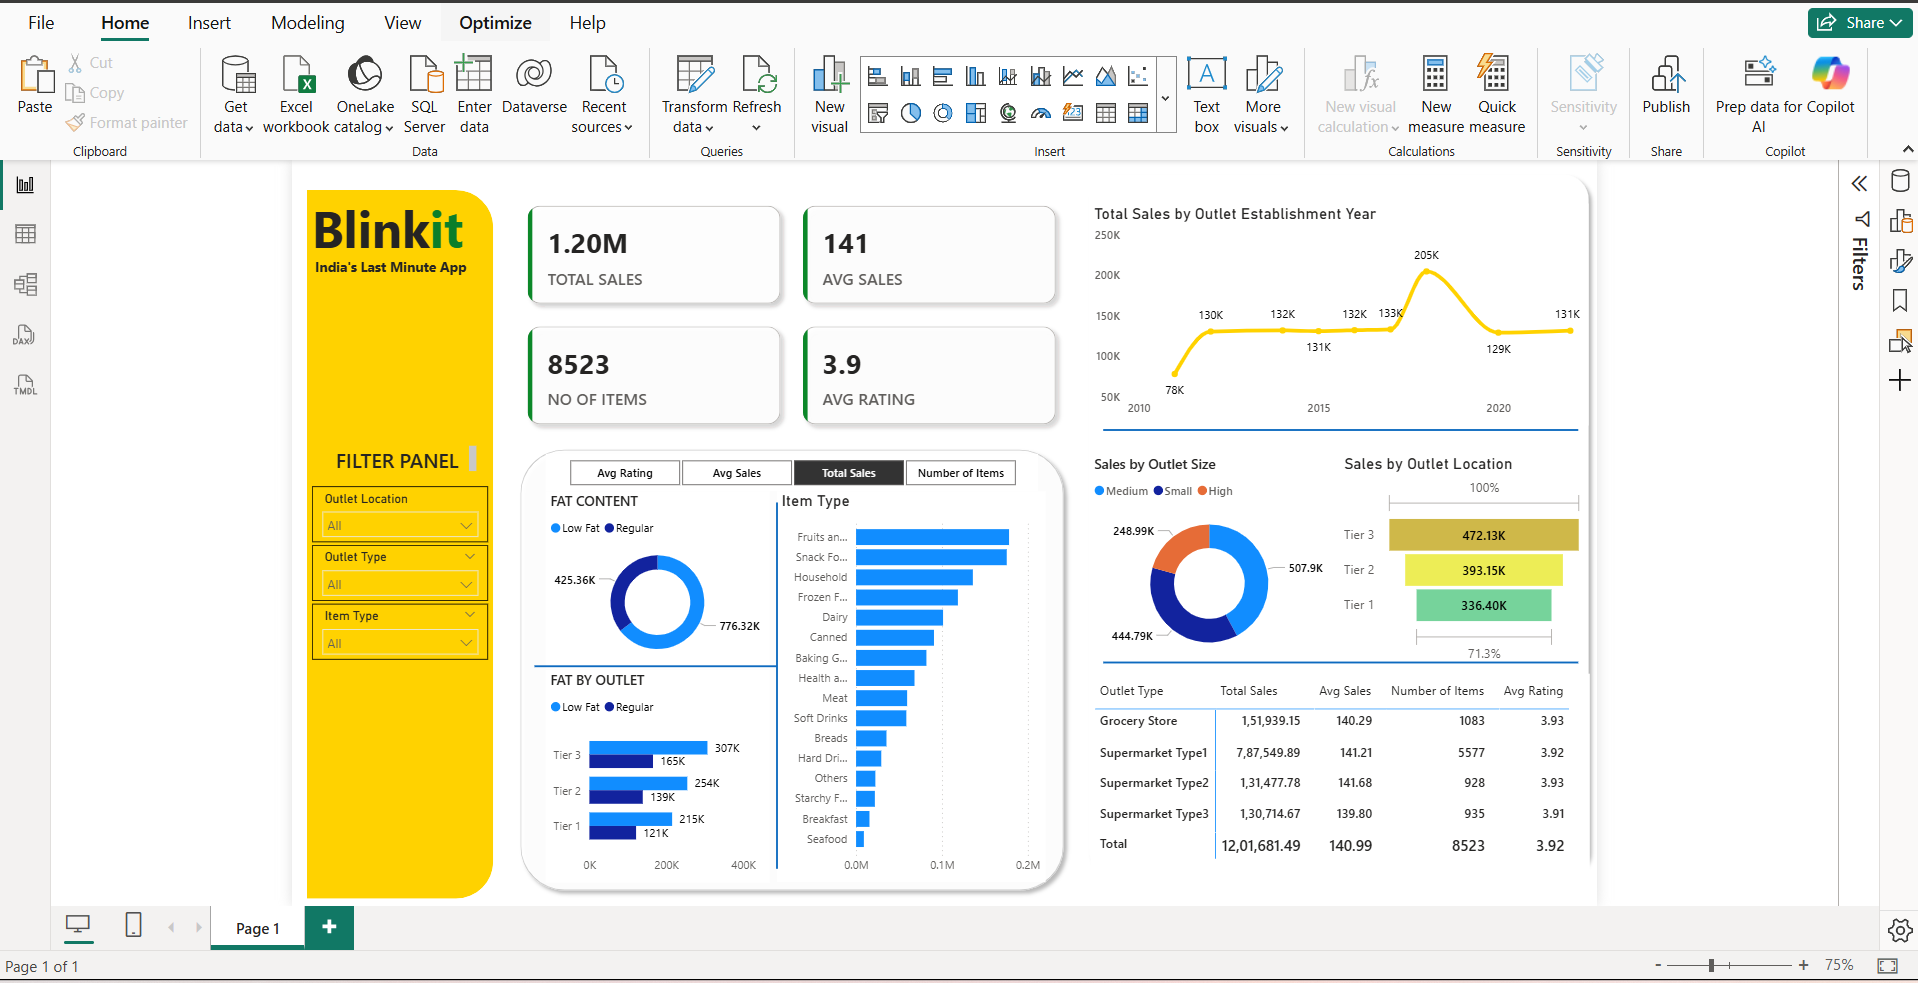

What the dashboard file says about the page in this screenshot:
{"tool":"powerbi","page":{"name":"Page 1","canvas":[1400,800],"ordinal":0},"visuals":[{"type":"shape","box":[16.1,32.2,199.7,760],"z":0},{"type":"textbox","box":[16.1,32.2,199.7,81.8],"z":1000},{"type":"textbox","box":[16.1,99.2,179.6,30.8],"z":2000},{"type":"cardVisual","fields":{"Data":["BlinkIT Grocery Data.Total Sales","BlinkIT Grocery Data.Avg Sales","BlinkIT Grocery Data.Number of Items","BlinkIT Grocery Data.Avg Rating"]},"box":[235.9,32.2,600,269.4],"z":3000},{"type":"shape","box":[235.9,301.6,600.5,490.6],"z":4000},{"type":"donutChart","title":"FAT CONTENT","fields":{"Y":["BlinkIT Grocery Data.Total Sales"],"Category":["BlinkIT Grocery Data.Item Fat Content"]},"box":[272.1,355.2,239.9,190.3],"z":5000},{"type":"slicer","fields":{"Values":["Metrics.Metrics"]},"box":[272.1,315,528.2,40.2],"z":6000},{"type":"clusteredBarChart","title":"FAT BY OUTLET","fields":{"Y":["BlinkIT Grocery Data.Total Sales"],"Category":["BlinkIT Grocery Data.Outlet Location Type"],"Series":["BlinkIT Grocery Data.Item Fat Content"]},"box":[272.1,546.9,239.9,227.9],"z":7000},{"type":"barChart","title":"Item Type","fields":{"Y":["BlinkIT Grocery Data.Total Sales"],"Category":["BlinkIT Grocery Data.Item Type"]},"box":[520.1,355.2,288.2,419.6],"z":8000},{"type":"shape","box":[845.8,6.7,553.6,768.1],"z":9000},{"type":"lineChart","fields":{"Category":["BlinkIT Grocery Data.Outlet Establishment Year"],"Y":["BlinkIT Grocery Data.Total Sales"]},"box":[855.2,46.9,534.9,237.3],"z":10000},{"type":"donutChart","title":"Sales by Outlet Size","fields":{"Category":["BlinkIT Grocery Data.Outlet Size"],"Y":["BlinkIT Grocery Data.Total Sales"]},"box":[855.2,315,257.4,230.6],"z":11000},{"type":"funnel","title":"Sales by Outlet Location","fields":{"Category":["BlinkIT Grocery Data.Outlet Location Type"],"Y":["BlinkIT Grocery Data.Total Sales"]},"box":[1123.3,315,266.8,230.6],"z":12000},{"type":"pivotTable","fields":{"Rows":["BlinkIT Grocery Data.Outlet Type"],"Values":["BlinkIT Grocery Data.Total Sales","BlinkIT Grocery Data.Avg Sales","BlinkIT Grocery Data.Number of Items","BlinkIT Grocery Data.Avg Rating"]},"box":[856.6,550.9,534.9,223.9],"z":13000},{"type":"shape","box":[260.1,534.9,260,16.1],"z":14000},{"type":"shape","box":[504,367.3,32.2,392.8],"z":15000},{"type":"shape","box":[870,526.8,509.4,24.1],"z":16000},{"type":"shape","box":[870,277.5,509.4,24.1],"z":17000},{"type":"slicer","fields":{"Values":["BlinkIT Grocery Data.Outlet Location Type"]},"box":[21.4,349.9,189,60],"z":17001},{"type":"slicer","fields":{"Values":["BlinkIT Grocery Data.Outlet Type"]},"box":[21.4,412.9,189,60],"z":17002},{"type":"slicer","fields":{"Values":["BlinkIT Grocery Data.Item Type"]},"box":[21.4,475.9,189,60.3],"z":17003},{"type":"textbox","box":[31.6,301.4,170.4,37.9],"z":17004}]}

Visuals, with their boxes on the page's 1400x800 design canvas (x1, y1, x2, y2). These are canvas units, not pixel positions in the 1918x983 screenshot, which may show the page scaled, cropped or inside an application window:
shape: (16,32,216,792)
textbox: (16,32,216,114)
textbox: (16,99,196,130)
cardVisual - BlinkIT Grocery Data.Total Sales x BlinkIT Grocery Data.Avg Sales: (236,32,836,302)
shape: (236,302,836,792)
"FAT CONTENT" donutChart: (272,355,512,546)
slicer - Metrics.Metrics: (272,315,800,355)
"FAT BY OUTLET" clusteredBarChart: (272,547,512,775)
"Item Type" barChart: (520,355,808,775)
shape: (846,7,1399,775)
lineChart - BlinkIT Grocery Data.Outlet Establishment Year x BlinkIT Grocery Data.Total Sales: (855,47,1390,284)
"Sales by Outlet Size" donutChart: (855,315,1113,546)
"Sales by Outlet Location" funnel: (1123,315,1390,546)
pivotTable - BlinkIT Grocery Data.Outlet Type x BlinkIT Grocery Data.Total Sales: (857,551,1392,775)
shape: (260,535,520,551)
shape: (504,367,536,760)
shape: (870,527,1379,551)
shape: (870,278,1379,302)
slicer - BlinkIT Grocery Data.Outlet Location Type: (21,350,210,410)
slicer - BlinkIT Grocery Data.Outlet Type: (21,413,210,473)
slicer - BlinkIT Grocery Data.Item Type: (21,476,210,536)
textbox: (32,301,202,339)
